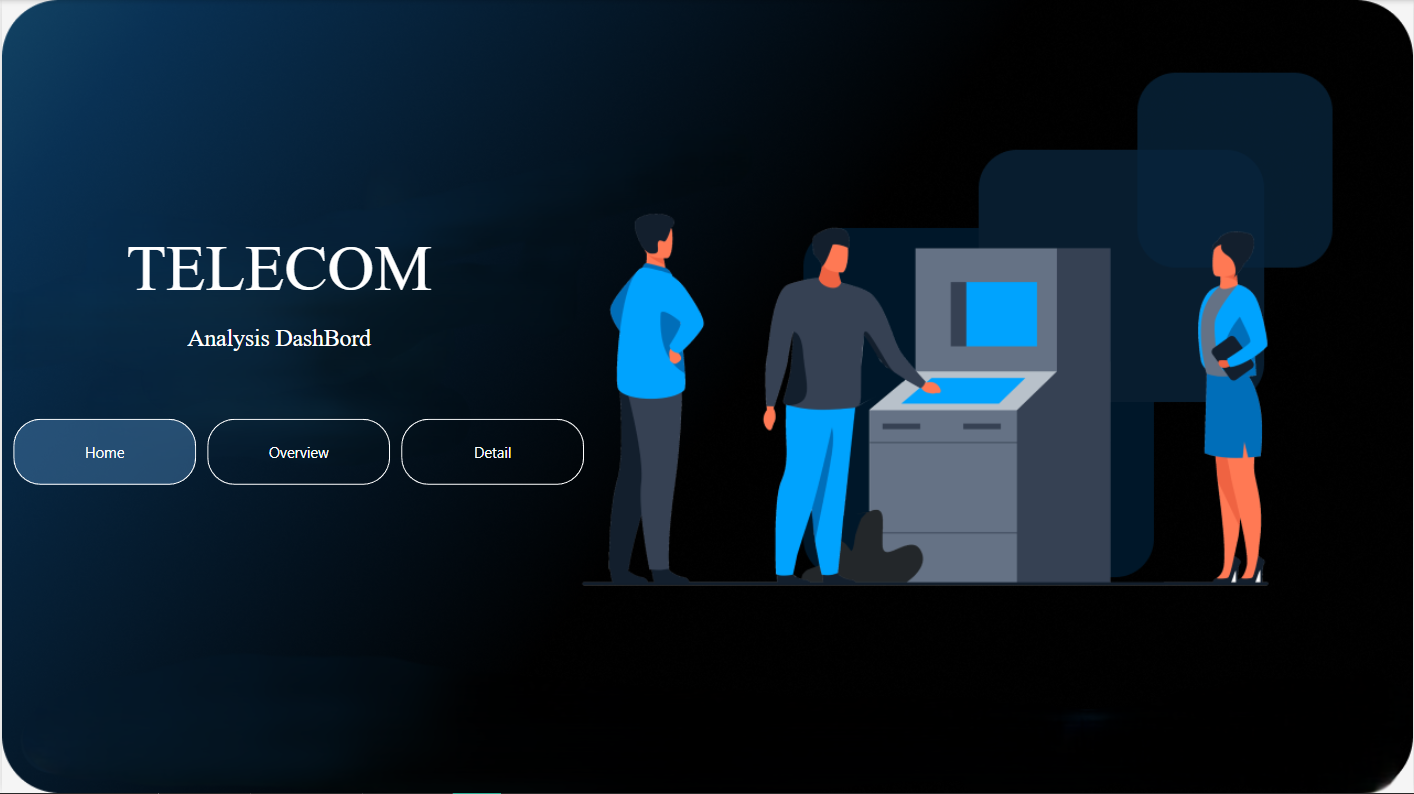

Layout of this report page (visuals, bound fields, positions):
{"tool":"powerbi","page":{"name":"Home","canvas":[1280,720],"ordinal":0},"visuals":[{"type":"textbox","box":[26,205,450.5,130],"z":0},{"type":"pageNavigator","box":[10,380,520,60],"z":1000}]}

Visuals, with their boxes in screenshot pixels (x1, y1, x2, y2), scaled from the page's 1280x720 canvas onto the 1414x794 screenshot:
textbox: box=[29, 226, 526, 369]
pageNavigator: box=[11, 419, 585, 485]
